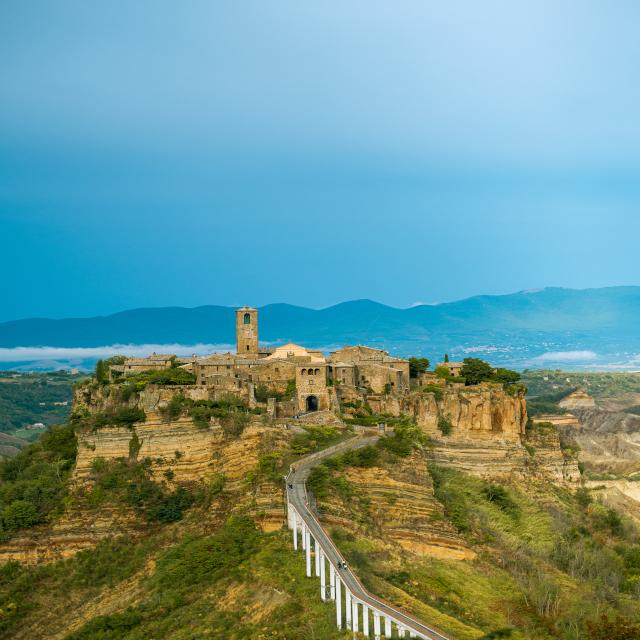building: (124, 344, 415, 404), (235, 306, 258, 357)
